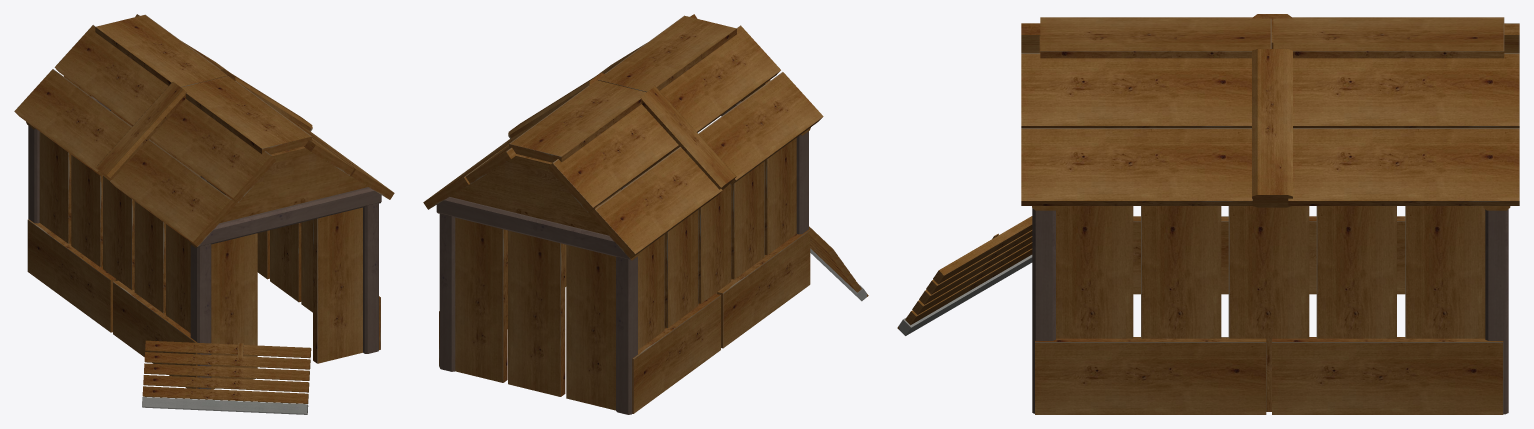
File: Shack merged.fbx
3 renders of one model, left to right at view 1: azimuth 30°, elevation 25°; view 2: azimuth 150°, elevation 25°; view 3: azimuth 270°, elevation 25°, orthographic. The views are drawn at different scales.
Parts seen in each view (by area): view 1: Shack, Door; view 2: Shack, Door; view 3: Shack, Door.
Boxes of the visible parts, x1,y1,x2,y2 form: Shack: [14, 14, 394, 389]; Door: [142, 340, 311, 414]; Shack: [423, 14, 823, 414]; Door: [808, 226, 868, 301]; Shack: [1021, 14, 1519, 414]; Door: [897, 216, 1032, 335].
Bounding box in the file's own units: 1004 × 888 × 1547.
Materials: 1 (1 with a texture image).
